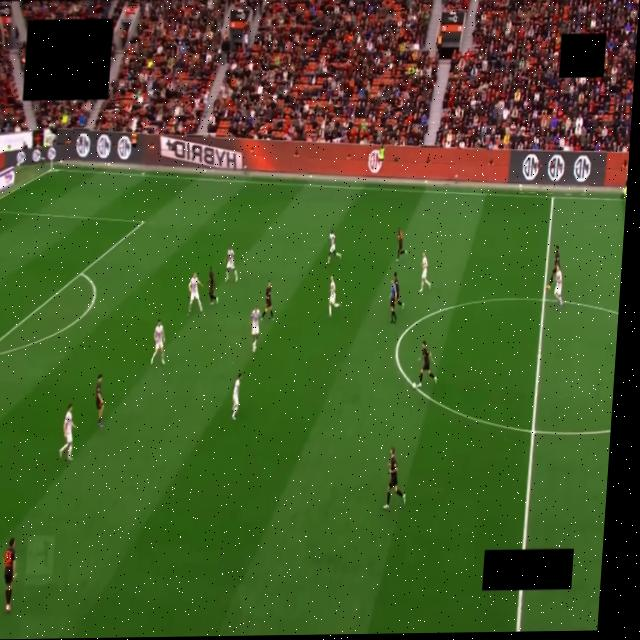player: (383, 449, 405, 510), (3, 538, 16, 612), (59, 405, 75, 461), (417, 340, 436, 387), (546, 245, 561, 291), (150, 320, 164, 364), (188, 273, 202, 315), (326, 228, 341, 265), (231, 373, 242, 420), (224, 245, 237, 281), (250, 306, 260, 352), (419, 252, 430, 292), (328, 276, 339, 316), (95, 374, 103, 427), (262, 282, 273, 320), (207, 268, 218, 304), (393, 273, 403, 309), (396, 228, 406, 262), (554, 266, 562, 307)
referee: (388, 277, 399, 323)
